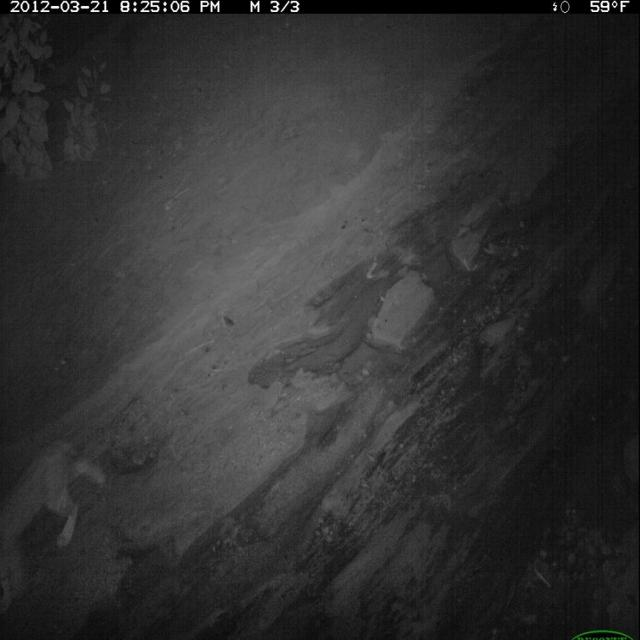bobcat: (1, 435, 111, 612)
